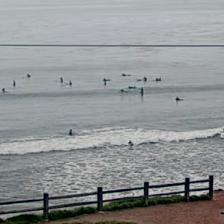surfer: (155, 76, 164, 82), (126, 140, 134, 146), (120, 88, 127, 94), (140, 87, 144, 97), (68, 129, 73, 135), (175, 97, 182, 101), (12, 80, 16, 87), (26, 73, 31, 78), (144, 76, 148, 82), (128, 86, 136, 89), (103, 78, 109, 82), (69, 80, 73, 86), (60, 76, 64, 82), (122, 74, 130, 76), (2, 88, 5, 92)
